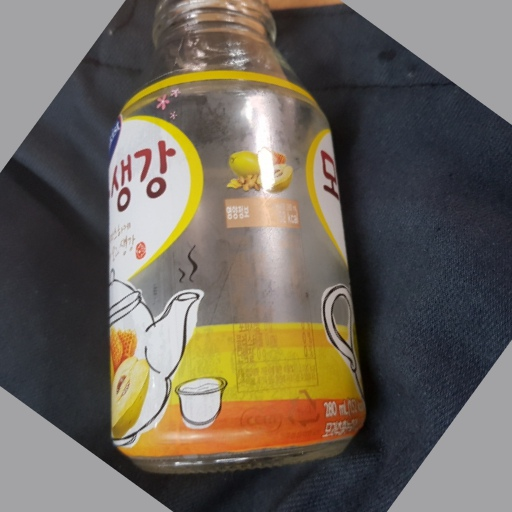Glass_4: (101, 2, 367, 479)
